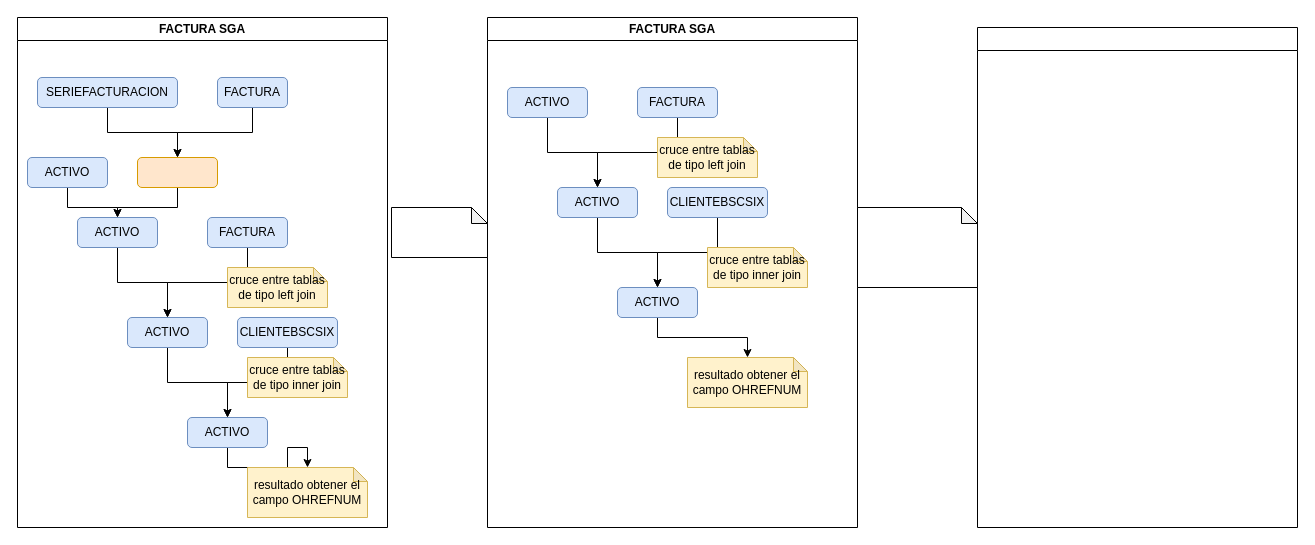
Some shapes in this 1315 by 545 pixel diagram are drawn without their labels. Each missing label, with the centre of its shape:
"EN CASO QUE NO SE ENCUENTRE RESUTLADO EN AMBAS TABLAS" belongs at point (917, 247).
"FACTURA SGA OPCIONAL" belongs at point (1137, 277).
"RESULTADO" belongs at point (177, 172).
"UNION DE AMBOS PROCESOS" belongs at point (439, 232).
